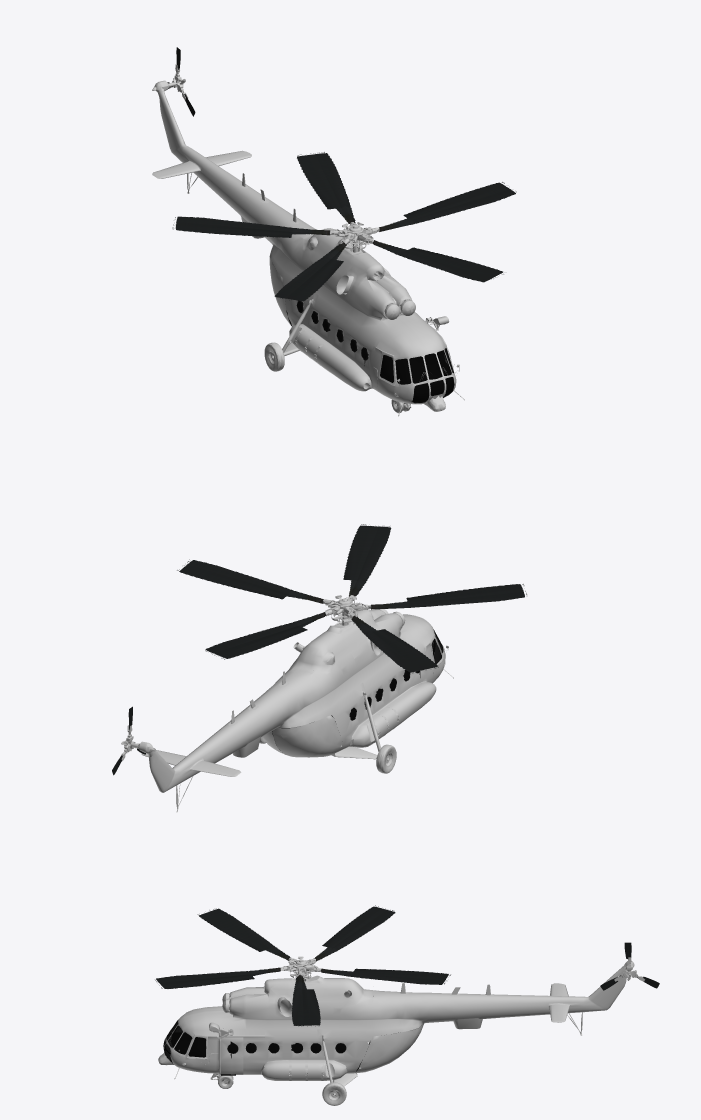
3 views of the same model, one above another, from view 1: azimuth 30°, elevation 25°; view 2: azimuth 150°, elevation 25°; view 3: azimuth 270°, elevation 25° (orthographic). The views are drawn at different scales.
Parts seen in each view (by area): view 1: Fuselage, Rotor_main; view 2: Fuselage, Rotor_main; view 3: Fuselage, Rotor_main, Rotor_tails.
Part boxes in pixels (box(x1,y1,x2,y2)): Fuselage: box(152, 80, 464, 416); Rotor_main: box(172, 152, 516, 301); Fuselage: box(131, 609, 453, 812); Rotor_main: box(177, 524, 526, 673); Fuselage: box(158, 961, 634, 1105); Rotor_main: box(155, 905, 450, 1026); Rotor_tails: box(600, 942, 659, 990).
Size of the model in its own units: 21.13 by 7.43 by 26.02.
